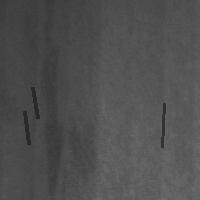inclusion: (29, 16, 67, 199), (30, 85, 39, 120), (22, 109, 30, 146), (160, 101, 166, 149)
